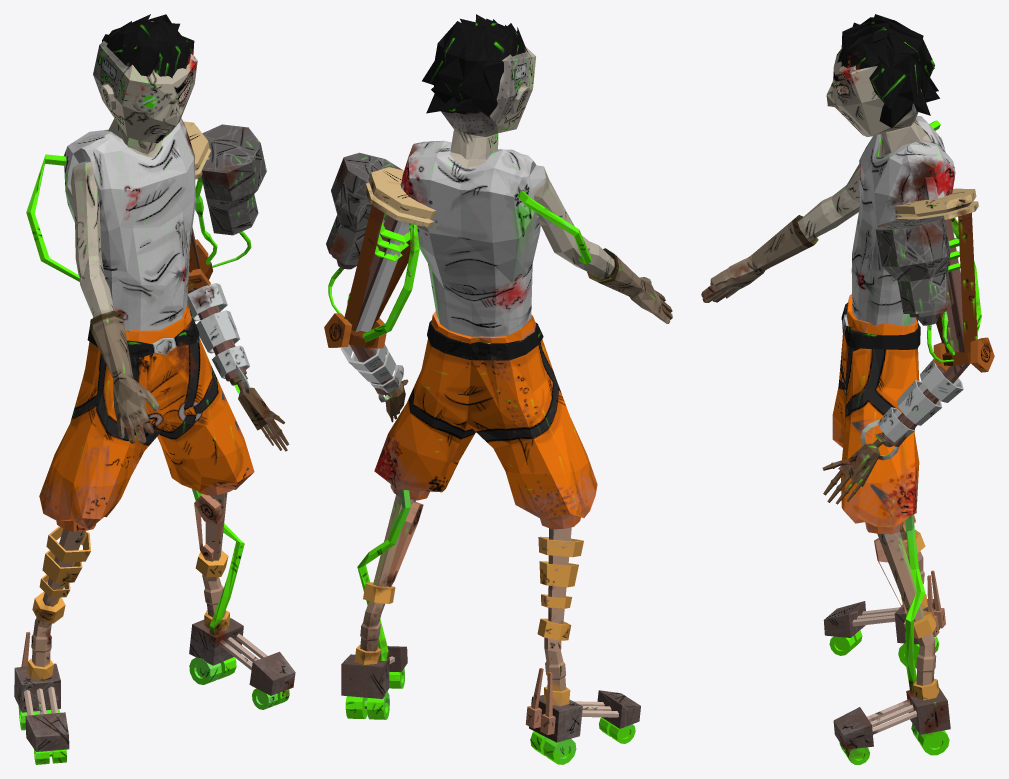
File: CyborgFINALAnimation_000005.obj
3 views of the same model, side by side, from view 1: azimuth 30°, elevation 25°; view 2: azimuth 150°, elevation 25°; view 3: azimuth 270°, elevation 25° (orthographic). The views are drawn at different scales.
Visible parts, largest first — view 1: CyborgMesh_Cube.002; view 2: CyborgMesh_Cube.002; view 3: CyborgMesh_Cube.002.
Part boxes in pixels (x1=…): CyborgMesh_Cube.002: x1=14, y1=14, x2=295, y2=764; CyborgMesh_Cube.002: x1=324, y1=14, x2=672, y2=764; CyborgMesh_Cube.002: x1=701, y1=14, x2=994, y2=764.
Bounding box in the file's own units: 3.79 × 9.64 × 3.73.
